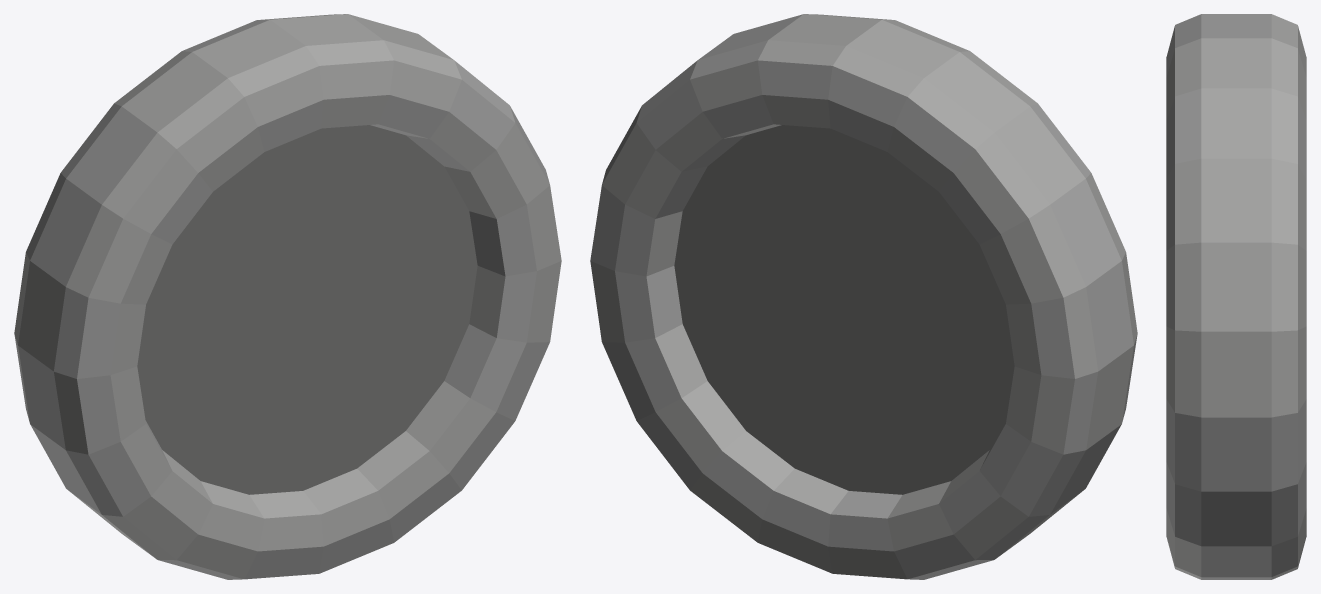
Rendered from coin.glb.
3 views of the same model, side by side, from view 1: azimuth 30°, elevation 25°; view 2: azimuth 150°, elevation 25°; view 3: azimuth 270°, elevation 25° (orthographic). The views are drawn at different scales.
Visible parts, largest first — view 1: Coin_Cylinder.014; view 2: Coin_Cylinder.014; view 3: Coin_Cylinder.014.
Boxes of the visible parts, <box> form: Coin_Cylinder.014: <box>14,14,561,579</box>; Coin_Cylinder.014: <box>590,14,1137,579</box>; Coin_Cylinder.014: <box>1166,14,1306,579</box>.
Size of the model in its own units: 0.7367 by 0.7377 by 0.1812.
1 material, 1 textured.
